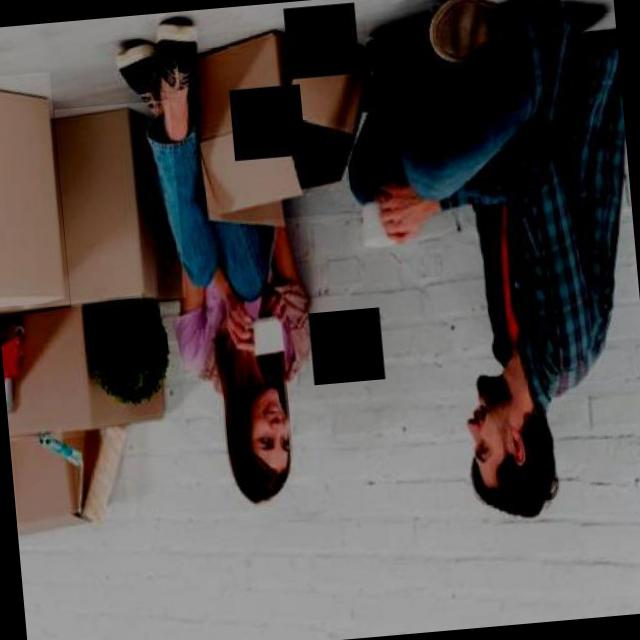box: (186, 20, 382, 225), (53, 100, 186, 306), (0, 287, 185, 435), (0, 72, 69, 311), (11, 433, 130, 538)
